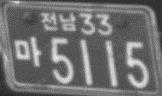1: (77, 36, 95, 86), (104, 39, 119, 87)
3: (96, 13, 113, 36), (78, 13, 94, 35)
5: (49, 36, 75, 85), (124, 40, 150, 89)
마: (14, 35, 42, 68)
전남_O: (39, 10, 76, 32)
